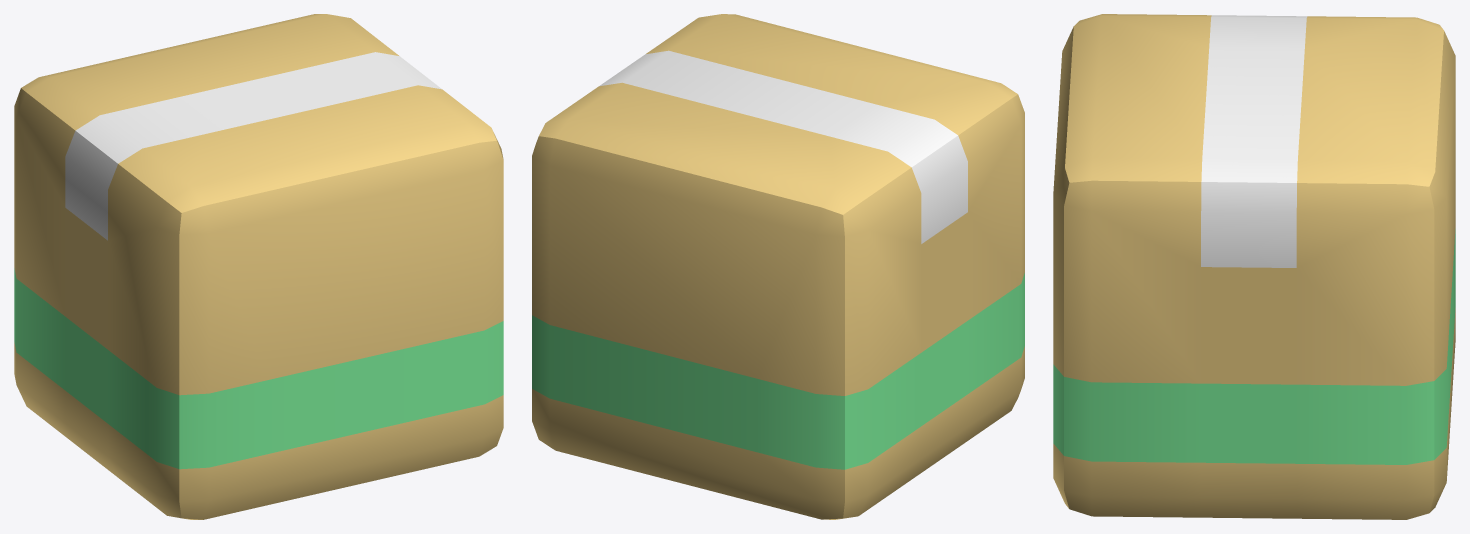
Rendered from Props_Box_Green_01.fbx.
The picture shows the model from 3 angles, left to right: view 1: azimuth 30°, elevation 25°; view 2: azimuth 150°, elevation 25°; view 3: azimuth 270°, elevation 25°; orthographic projection. The views are drawn at different scales.
Parts seen in each view (by area): view 1: Props_Box_Green_01; view 2: Props_Box_Green_01; view 3: Props_Box_Green_01.
Boxes of the visible parts, x1,y1,x2,y2 form: Props_Box_Green_01: (14,14,503,519); Props_Box_Green_01: (532,14,1024,519); Props_Box_Green_01: (1053,14,1455,519).
Bounding box in the file's own units: 56.84 × 52.32 × 53.48.
